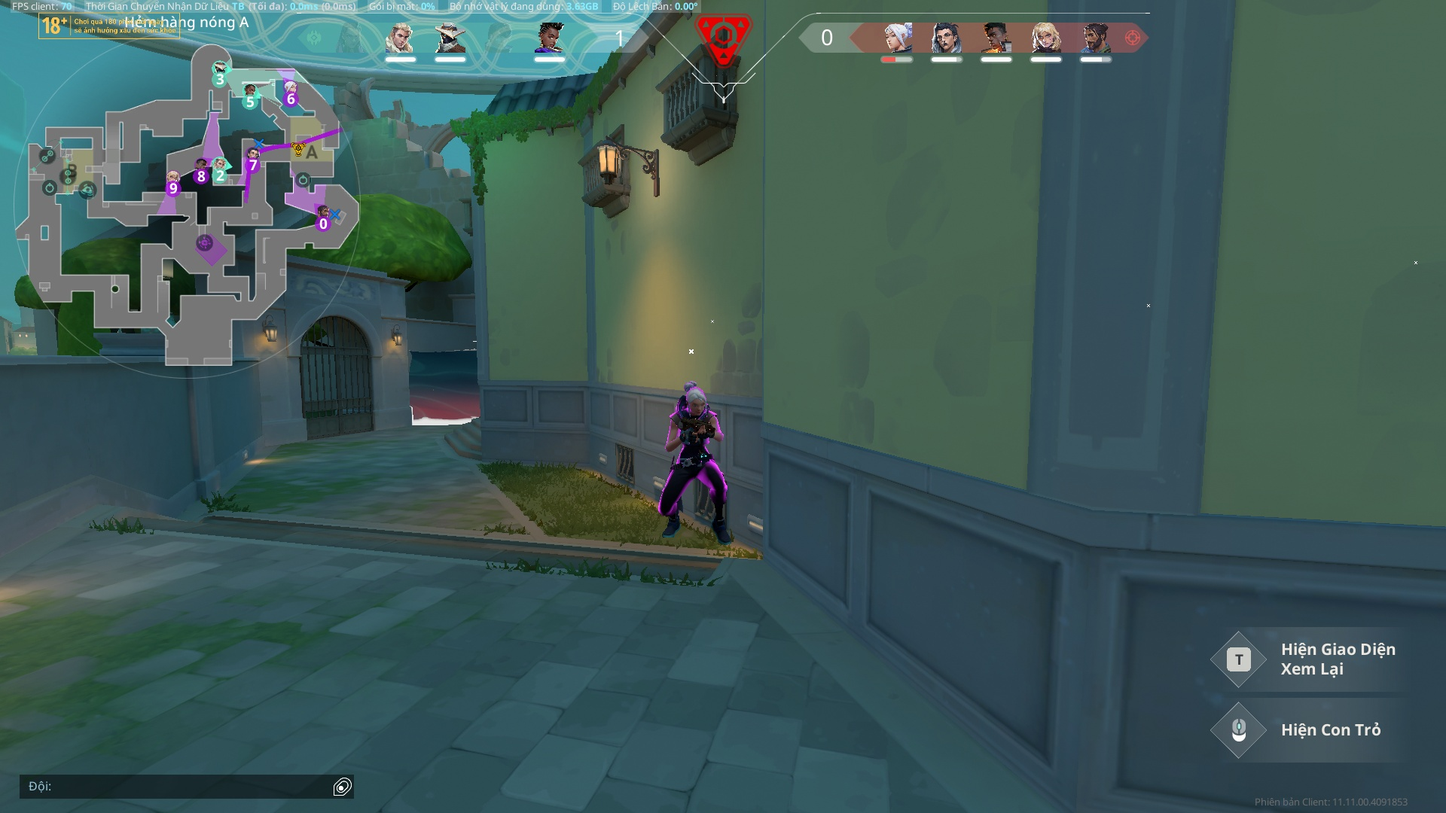body: (673, 407, 715, 454)
head: (685, 391, 707, 415)
